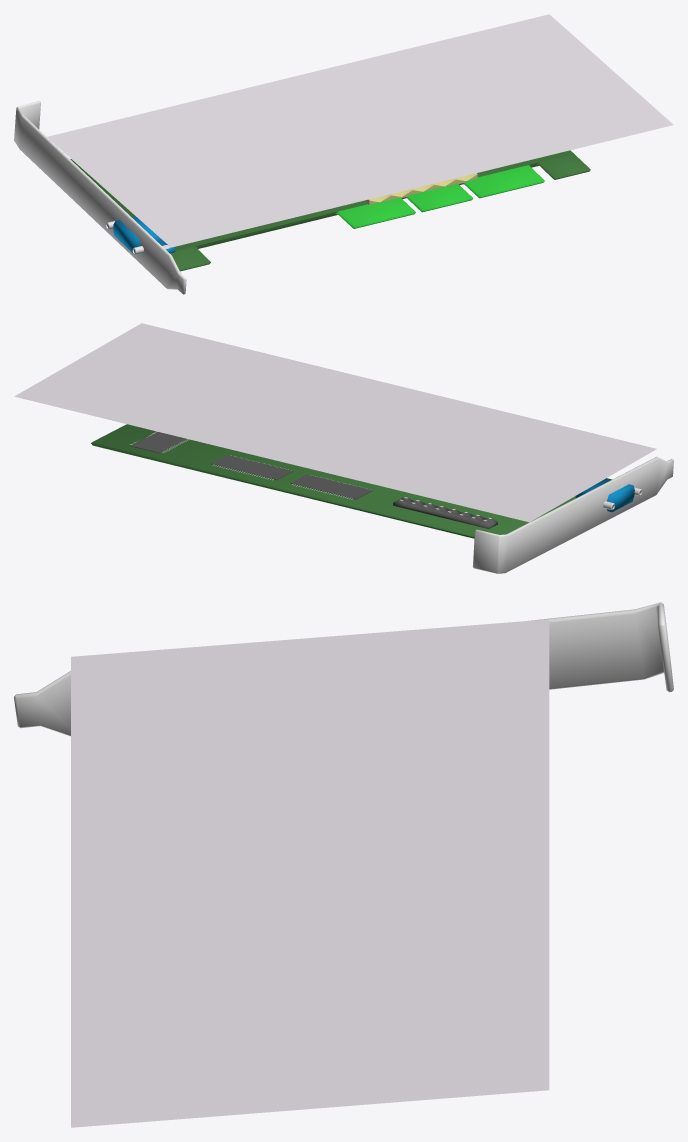
File: gpu8800gt.glb
3 views of the same model, one above another, from view 1: azimuth 30°, elevation 25°; view 2: azimuth 150°, elevation 25°; view 3: azimuth 270°, elevation 25° (orthographic). The views are drawn at different scales.
Visible parts, largest first — view 1: Plane, Gpu_MainBoard_22, Plane_21, Cube_2, Gpu_HeatSink_17; view 2: Plane, Gpu_MainBoard_22, Plane_21, Gpu_Not_sure_20, Cube.002_7, Cube.003_9, Cube.004_11, Cube_2; view 3: Plane, Plane_21.
Part boxes in pixels (left/top/right/bottom): Plane: left=47, top=14, right=673, bottom=247; Gpu_MainBoard_22: left=70, top=150, right=590, bottom=271; Plane_21: left=14, top=101, right=186, bottom=294; Cube_2: left=113, top=216, right=175, bottom=254; Gpu_HeatSink_17: left=364, top=173, right=477, bottom=204; Plane: left=14, top=323, right=656, bottom=522; Gpu_MainBoard_22: left=91, top=424, right=611, bottom=538; Plane_21: left=472, top=456, right=673, bottom=573; Gpu_Not_sure_20: left=392, top=497, right=497, bottom=528; Cube.002_7: left=290, top=474, right=372, bottom=499; Cube.003_9: left=211, top=455, right=293, bottom=479; Cube.004_11: left=131, top=432, right=186, bottom=453; Cube_2: left=575, top=478, right=634, bottom=512; Plane: left=71, top=619, right=549, bottom=1127; Plane_21: left=14, top=602, right=673, bottom=736.
Bounding box in the file's own units: 1.48 × 0.1984 × 0.8598.
